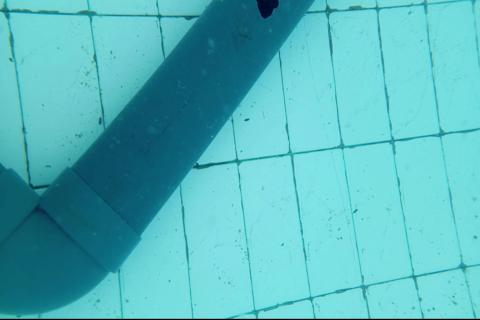kebocoran: (253, 0, 280, 19)
